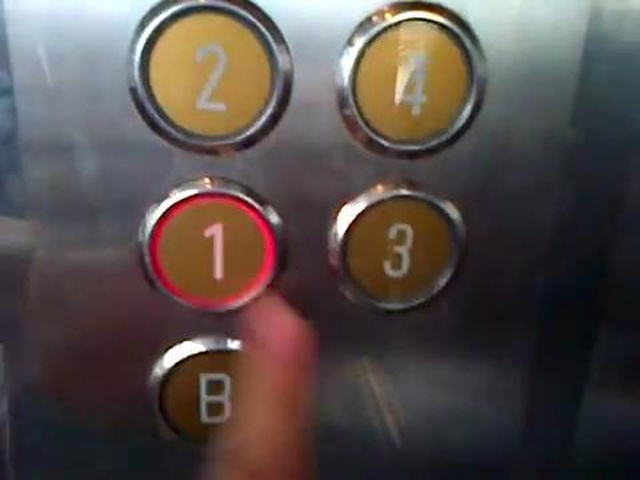1: (136, 177, 287, 317)
2: (125, 1, 295, 156)
3: (325, 177, 466, 315)
4: (331, 1, 485, 158)
B: (146, 335, 280, 461)
